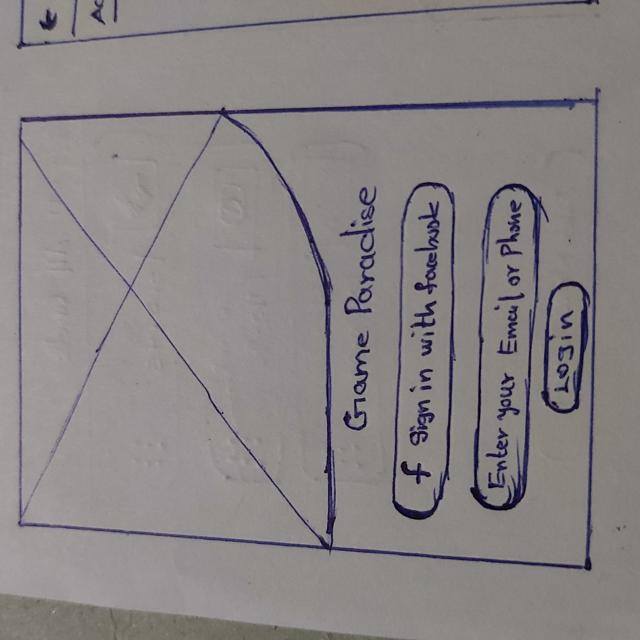Button: (392, 178, 454, 520), (475, 181, 538, 510), (545, 283, 586, 416)
Icon: (398, 450, 434, 490)
Image: (17, 117, 336, 546)
MainLayout: (12, 100, 602, 572)
TextView: (346, 183, 378, 436)
